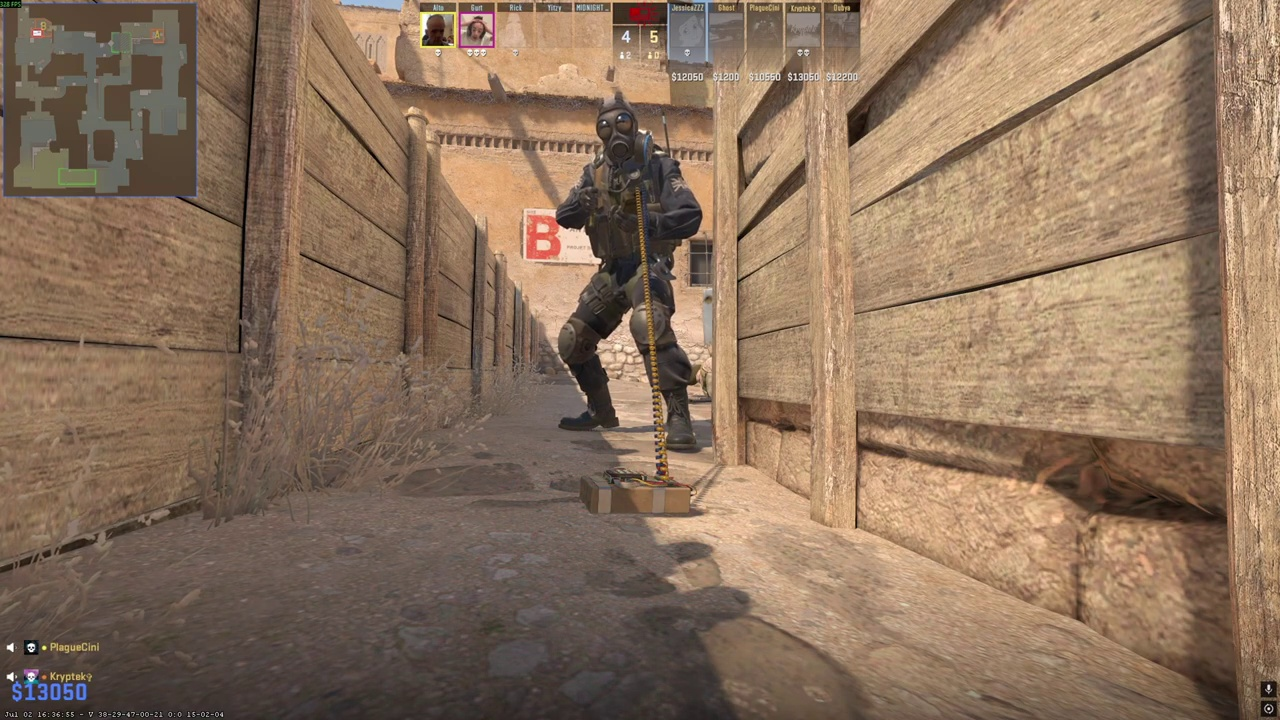CT: (556, 92, 703, 450)
